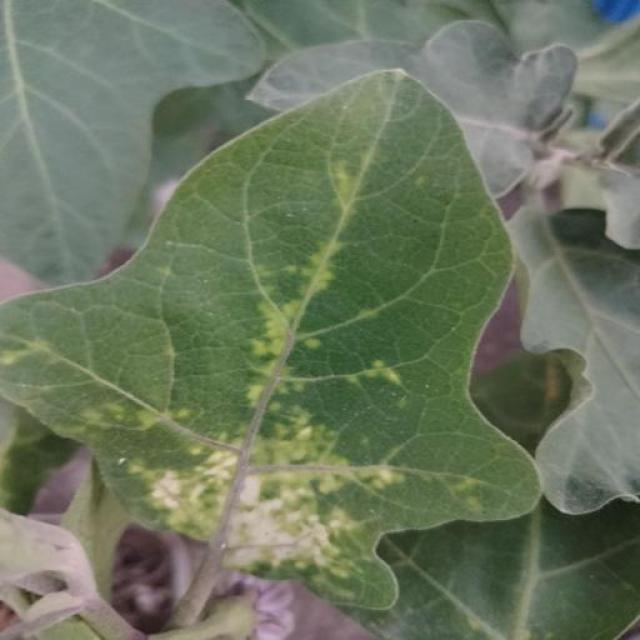leaf_spot: (128, 449, 315, 551), (232, 424, 412, 502), (230, 507, 382, 590), (248, 293, 332, 359), (325, 158, 377, 226), (440, 466, 502, 511), (13, 329, 76, 372), (362, 344, 408, 396), (77, 399, 147, 431), (244, 382, 304, 419), (306, 236, 341, 294), (166, 394, 213, 431)
